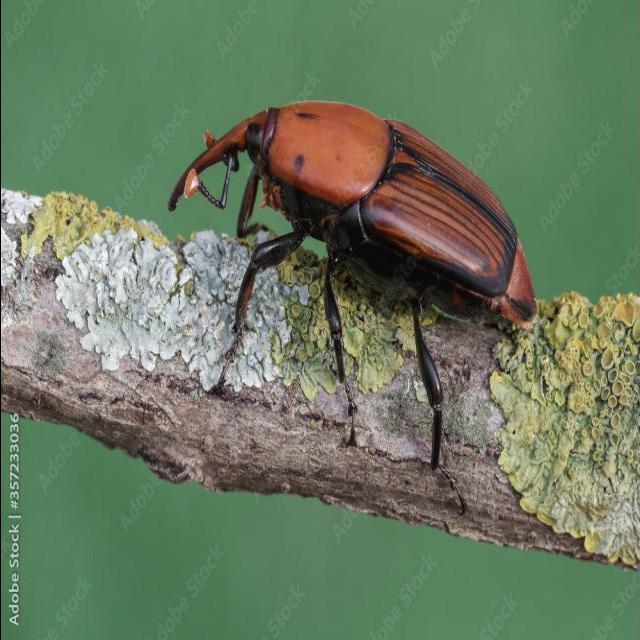Red-palm-weevil: (161, 97, 538, 324)
